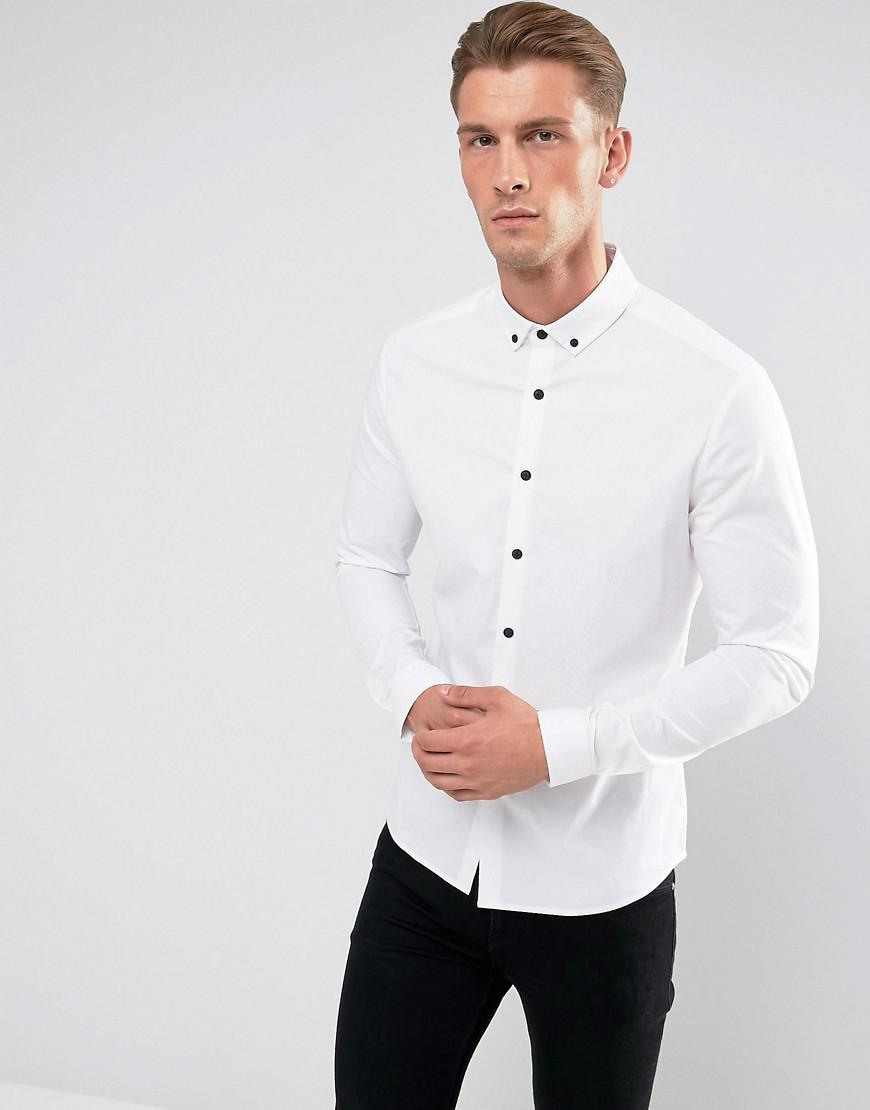teeshirt: (313, 268, 818, 942)
